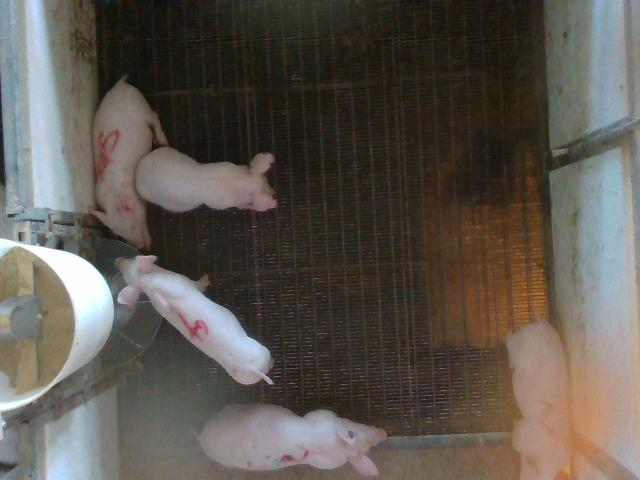pig-2: (506, 319, 569, 479)
pig-3: (196, 405, 386, 476)
pig-4: (115, 255, 272, 384)
pig-5: (90, 76, 168, 249)
